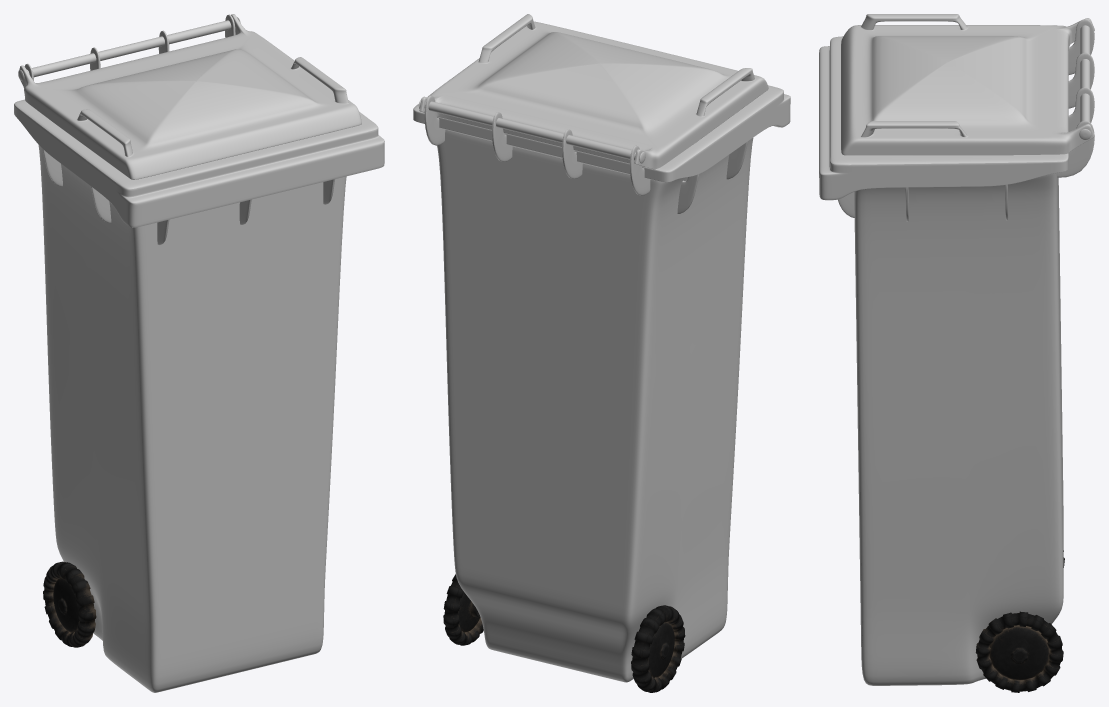
File: Trash_Bin.fbx
The picture shows the model from 3 angles, left to right: view 1: azimuth 30°, elevation 25°; view 2: azimuth 150°, elevation 25°; view 3: azimuth 270°, elevation 25°; orthographic projection. The views are drawn at different scales.
Visible parts, largest first — view 1: Trash_Can, Trash_Cap, Trash_Wheels; view 2: Trash_Can, Trash_Cap, Trash_Wheels; view 3: Trash_Can, Trash_Cap, Trash_Wheels.
Part boxes in pixels (<box>): Trash_Can: <box>14,14,384,692</box>; Trash_Cap: <box>18,14,361,179</box>; Trash_Wheels: <box>43,561,96,647</box>; Trash_Can: <box>413,85,790,682</box>; Trash_Cap: <box>418,14,768,169</box>; Trash_Wheels: <box>443,574,685,692</box>; Trash_Can: <box>819,19,1094,685</box>; Trash_Cap: <box>841,14,1094,155</box>; Trash_Wheels: <box>975,550,1064,692</box>.
Size of the model in its own units: 3302 by 7004 by 3000.
